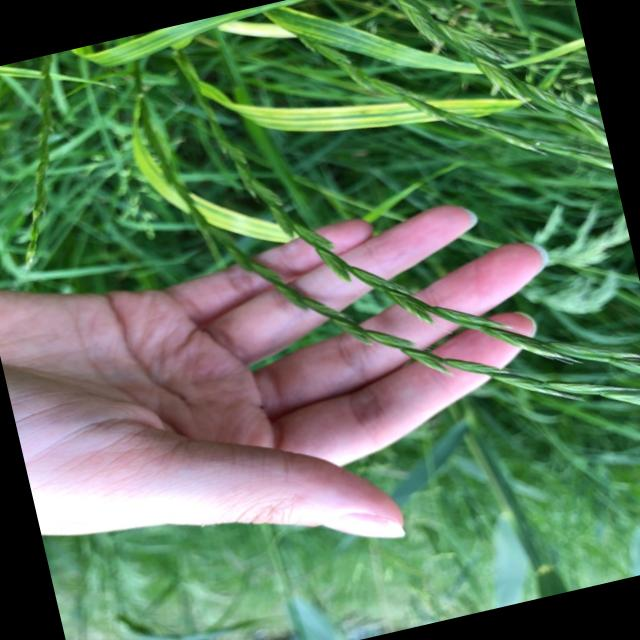Lolium: (156, 63, 640, 507), (201, 34, 640, 459), (0, 66, 109, 270)
